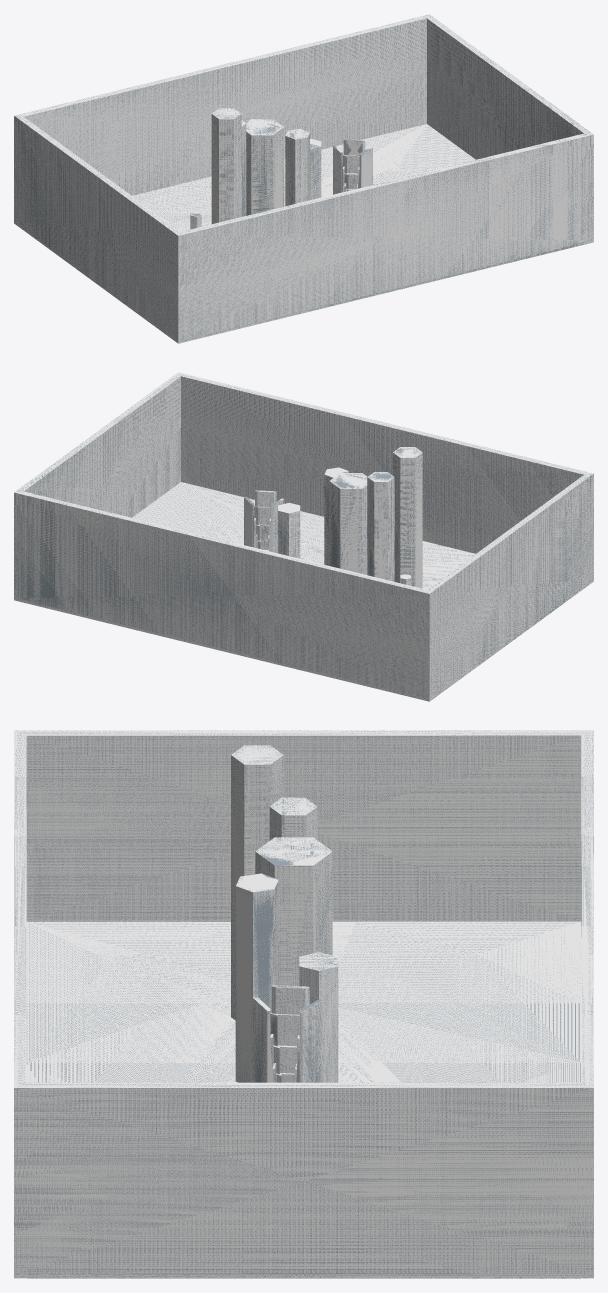
The picture shows the model from 3 angles, top to bottom: view 1: azimuth 30°, elevation 25°; view 2: azimuth 150°, elevation 25°; view 3: azimuth 270°, elevation 25°; orthographic projection. The views are drawn at different scales.
Parts seen in each view (by area): view 1: Model; view 2: Model; view 3: Model.
Part boxes in pixels (x1=…): Model: x1=14, y1=14, x2=593, y2=343; Model: x1=14, y1=372, x2=593, y2=701; Model: x1=14, y1=730, x2=593, y2=1278.
Size of the model in its own units: 224 by 79.65 by 154.
